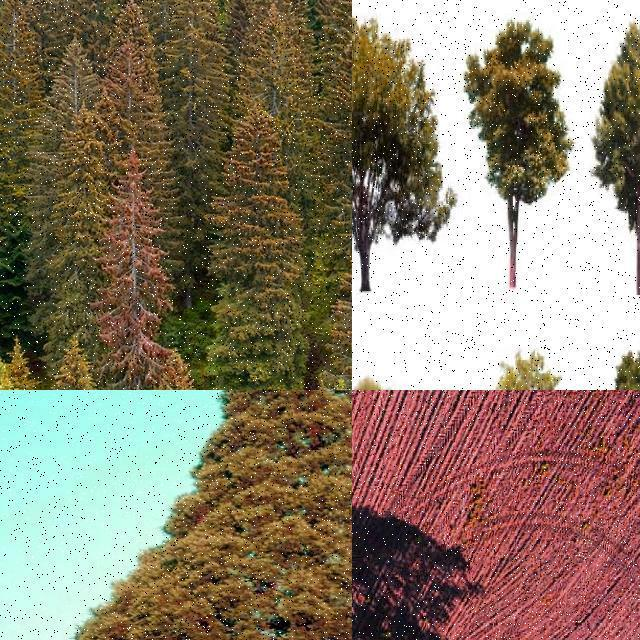tree: (42, 390, 352, 640), (352, 12, 456, 292), (466, 18, 574, 286), (206, 108, 304, 390), (91, 143, 181, 390), (0, 0, 46, 292), (592, 19, 640, 295), (0, 142, 56, 354), (163, 0, 224, 192), (230, 1, 310, 108), (314, 28, 352, 224), (106, 8, 162, 130), (0, 0, 46, 140), (45, 27, 101, 123), (0, 0, 70, 56), (332, 220, 352, 390), (60, 0, 110, 54), (116, 0, 160, 60), (148, 350, 208, 390), (324, 0, 352, 48), (0, 0, 22, 58), (0, 1, 28, 44), (0, 358, 32, 390)
